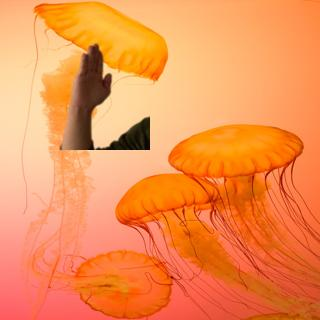RIGHT: (70, 37, 115, 114)
